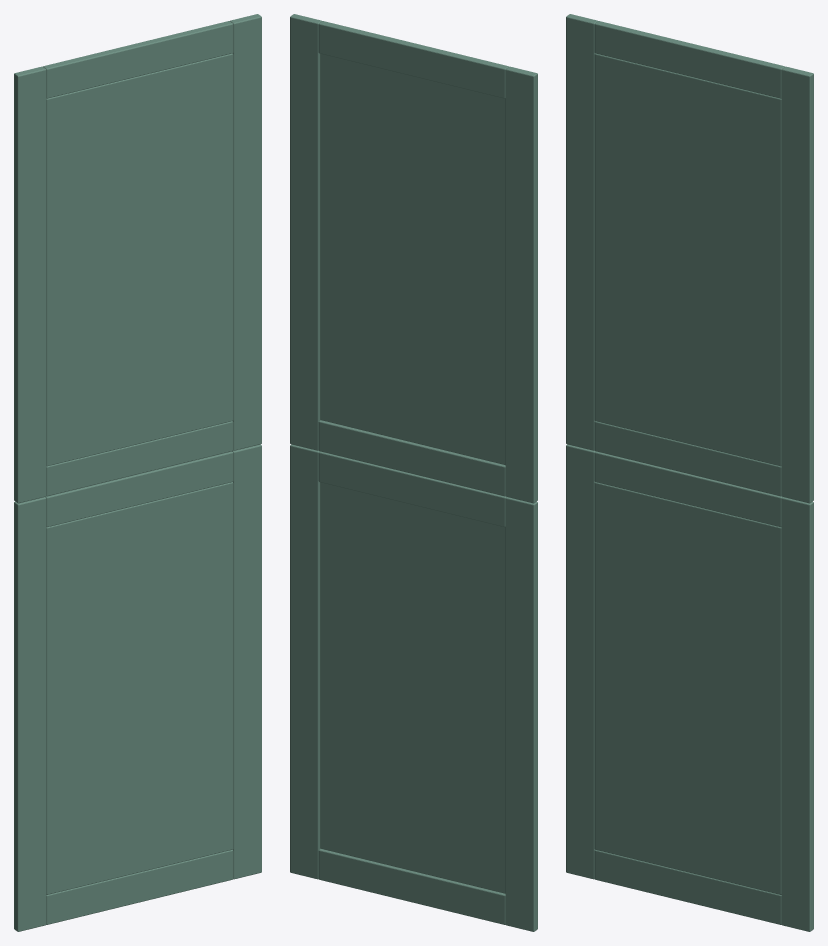
File: DOOR_SINGLE_VERTICAL_2_600x2000.glb
3 renders of one model, left to right at view 1: azimuth 30°, elevation 25°; view 2: azimuth 150°, elevation 25°; view 3: azimuth 330°, elevation 25°, orthographic.
Visible parts, largest first — view 1: front_panel_02_center, front_panel_01_center, front_panel_01_left, front_panel_02_left, front_panel_01_right, front_panel_02_right, front_panel_01_top, front_panel_02_top, front_panel_01_bottom, front_panel_02_bottom; view 2: front_panel_01_center, front_panel_02_center, front_panel_01_left, front_panel_02_left, front_panel_01_right, front_panel_02_right, front_panel_01_top, front_panel_01_bottom, front_panel_02_bottom, front_panel_02_top; view 3: front_panel_02_center, front_panel_01_center, front_panel_01_right, front_panel_02_right, front_panel_01_left, front_panel_02_left, front_panel_01_top, front_panel_02_top, front_panel_01_bottom, front_panel_02_bottom.
Boxes of the visible parts, x1,y1,x2,y2 form: front_panel_02_center: (46, 482, 233, 894); front_panel_01_center: (46, 53, 233, 466); front_panel_01_left: (14, 66, 46, 503); front_panel_02_left: (14, 497, 46, 931); front_panel_01_right: (230, 14, 261, 450); front_panel_02_right: (232, 444, 261, 879); front_panel_01_top: (43, 21, 233, 98); front_panel_02_top: (45, 451, 233, 527); front_panel_01_bottom: (46, 421, 233, 496); front_panel_02_bottom: (46, 849, 233, 924); front_panel_01_center: (320, 53, 505, 464); front_panel_02_center: (320, 482, 505, 893); front_panel_01_left: (505, 66, 537, 503); front_panel_02_left: (505, 497, 537, 931); front_panel_01_right: (290, 14, 321, 450); front_panel_02_right: (290, 444, 320, 879); front_panel_01_top: (318, 21, 508, 98); front_panel_01_bottom: (318, 420, 505, 496); front_panel_02_bottom: (318, 849, 505, 924); front_panel_02_top: (318, 451, 506, 527); front_panel_02_center: (594, 482, 781, 894); front_panel_01_center: (594, 53, 781, 466); front_panel_01_right: (781, 66, 813, 503); front_panel_02_right: (781, 497, 813, 931); front_panel_01_left: (566, 14, 597, 450); front_panel_02_left: (566, 444, 595, 879); front_panel_01_top: (594, 21, 784, 98); front_panel_02_top: (594, 451, 782, 527); front_panel_01_bottom: (594, 421, 781, 496); front_panel_02_bottom: (594, 849, 781, 924).
Size of the model in its own units: 0.596 by 2 by 0.018.
